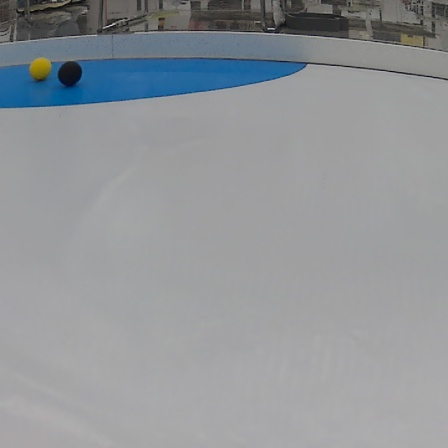black: (59, 61, 86, 85)
blue_base: (0, 58, 311, 110)
yellow: (30, 57, 51, 78)
